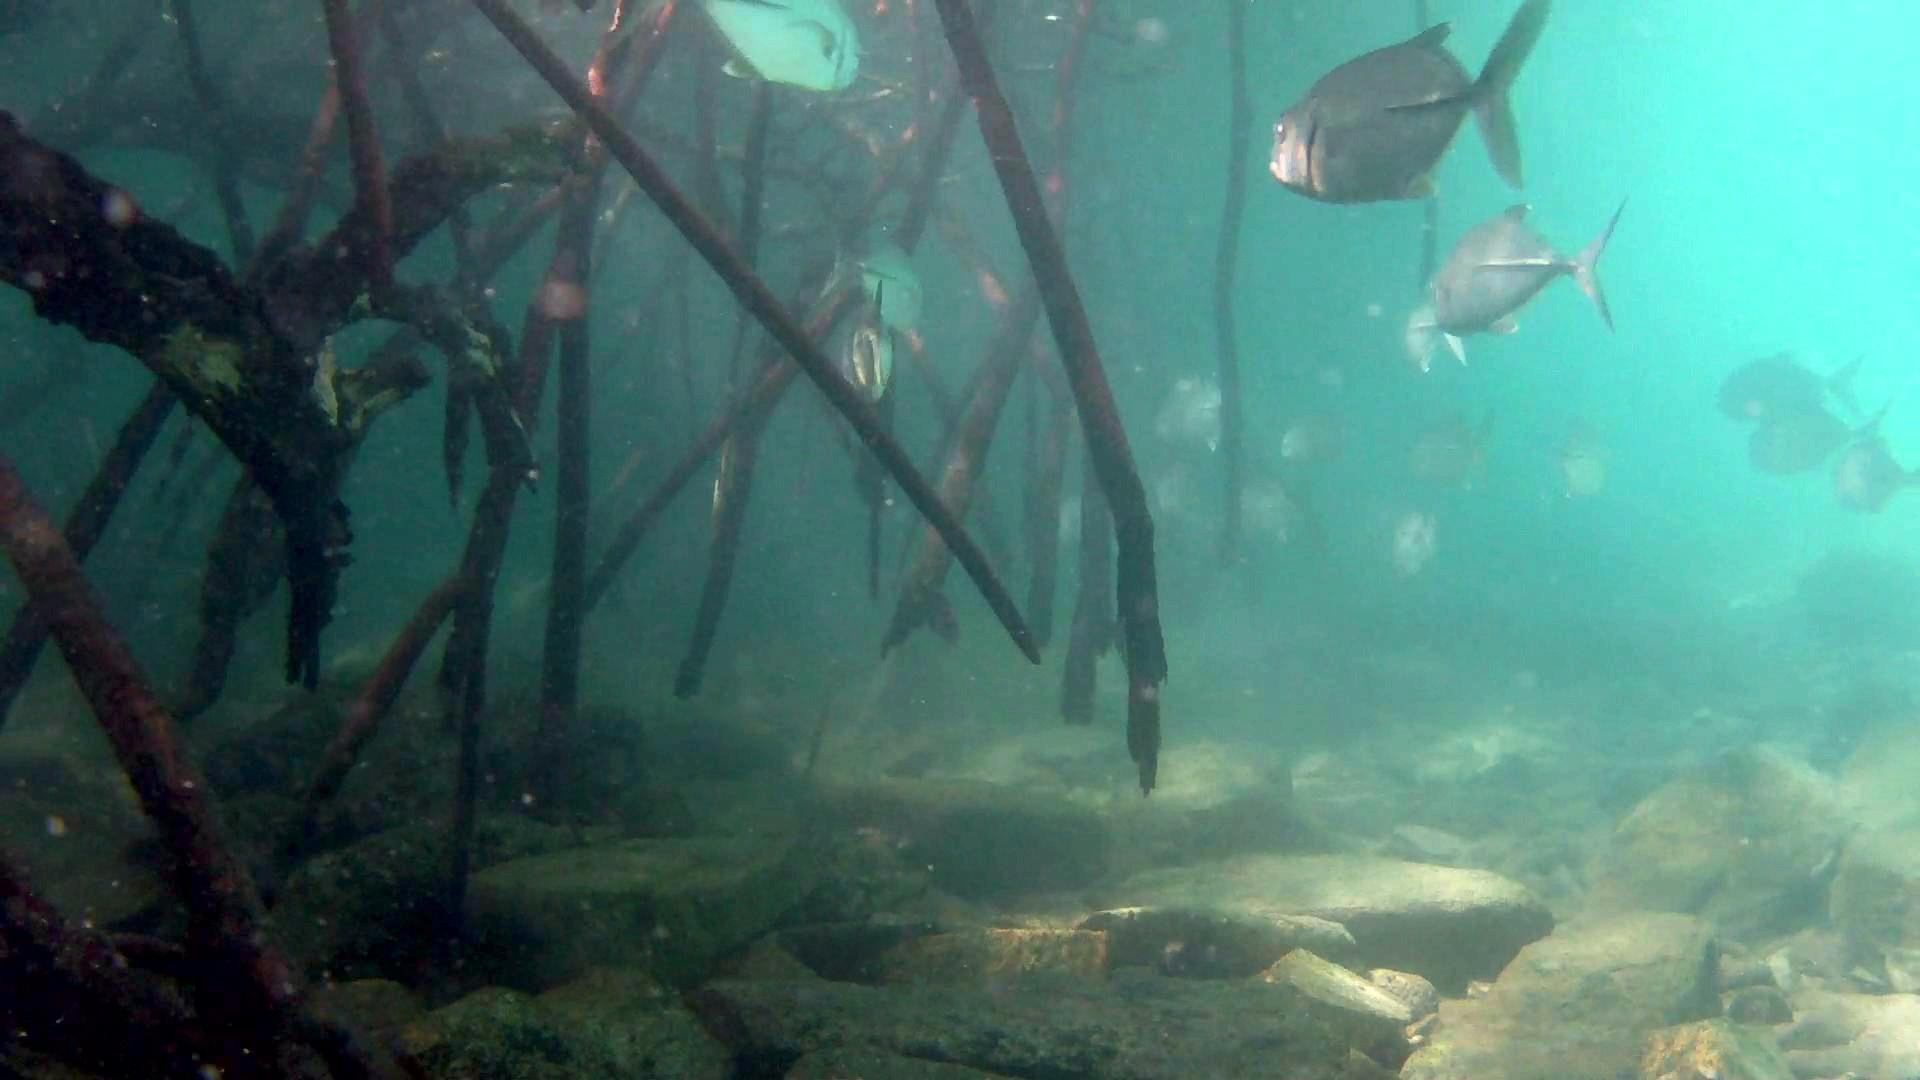caranx: (1255, 0, 1558, 211), (1421, 200, 1643, 344), (708, 0, 878, 105)
